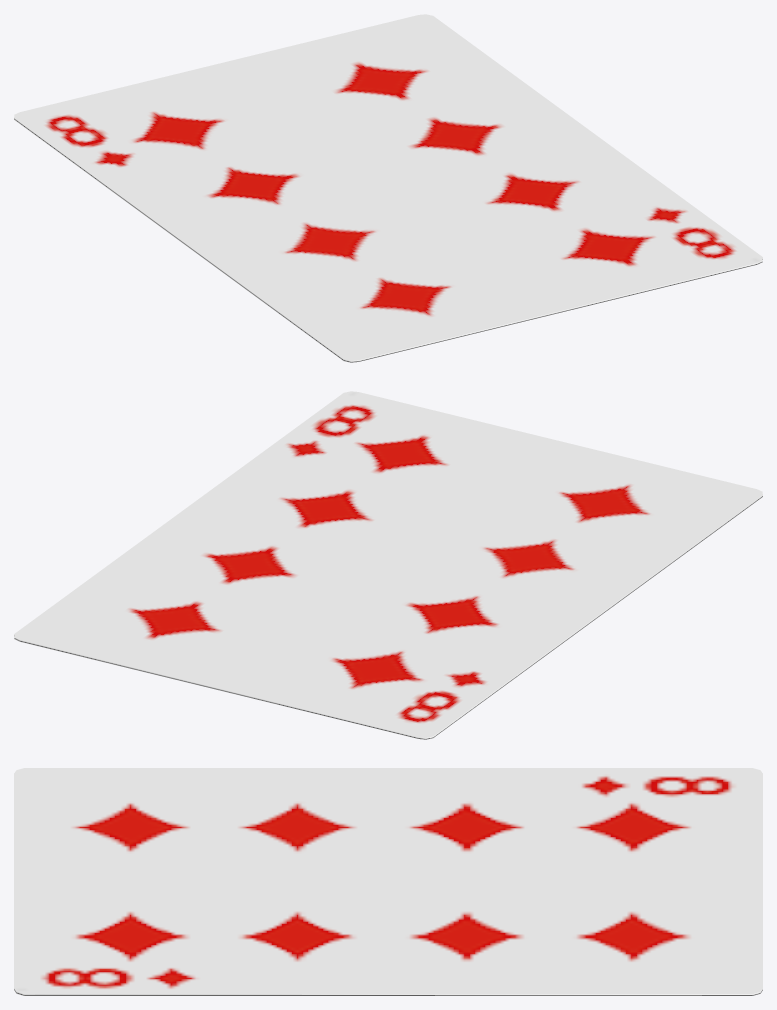
Rendered from Diamond_8.fbx.
3 renders of one model, top to bottom at view 1: azimuth 30°, elevation 25°; view 2: azimuth 150°, elevation 25°; view 3: azimuth 270°, elevation 25°, orthographic. The views are drawn at different scales.
Parts seen in each view (by area): view 1: Diamond_8; view 2: Diamond_8; view 3: Diamond_8.
Part boxes in pixels (<box>): Diamond_8: <box>14,14,762,362</box>; Diamond_8: <box>14,391,762,739</box>; Diamond_8: <box>14,768,762,995</box>.
Bounding box in the file's own units: 6.35 × 0.0239 × 8.89.
